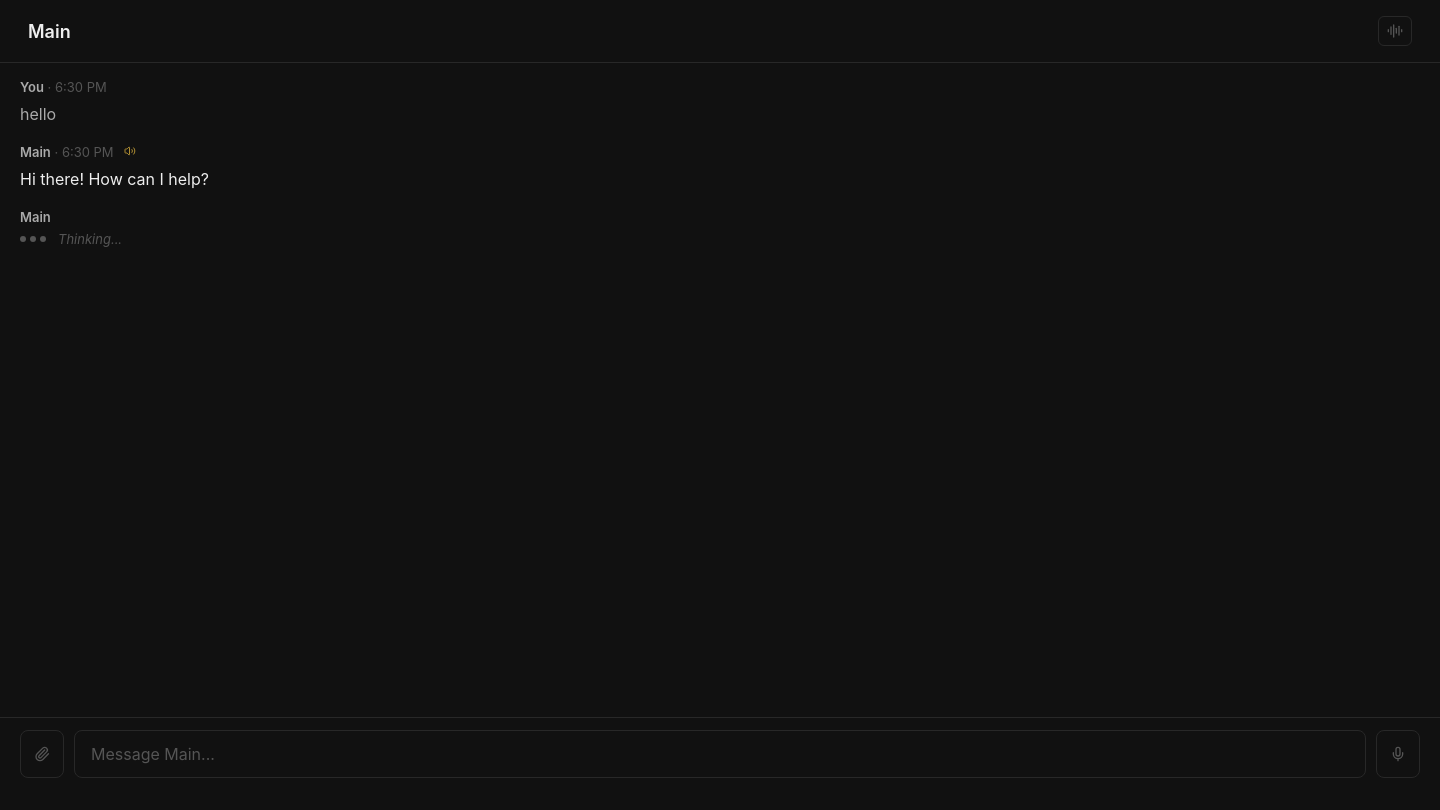
Test: ChatPanel › queues messages sent while loading and sends after loading completes
Type "queued msg" into the text box with placeholder "Message Main..." at (720, 754), box [74,730,1366,778]
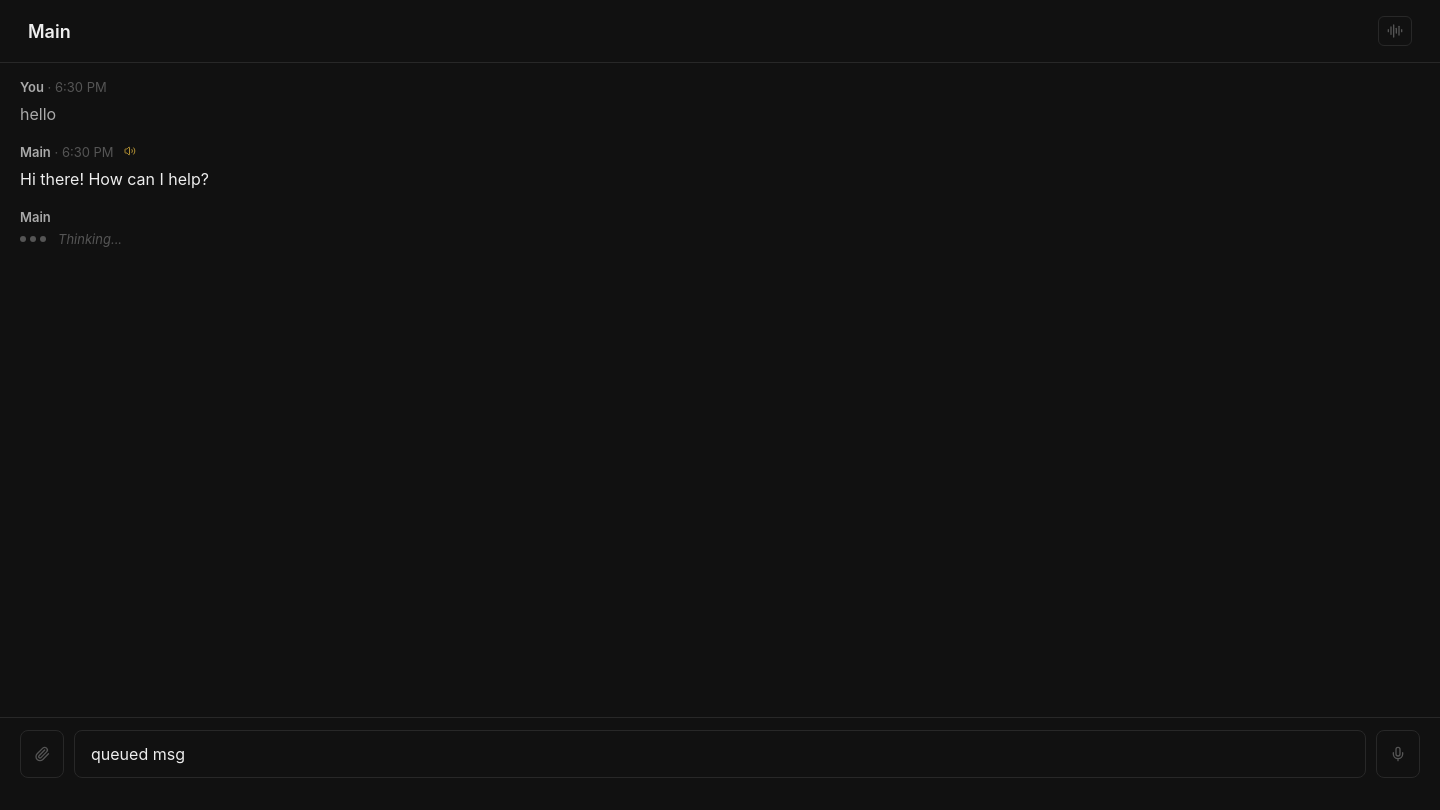
Press Enter in the text box with placeholder "Message Main...", box [74,730,1366,778]
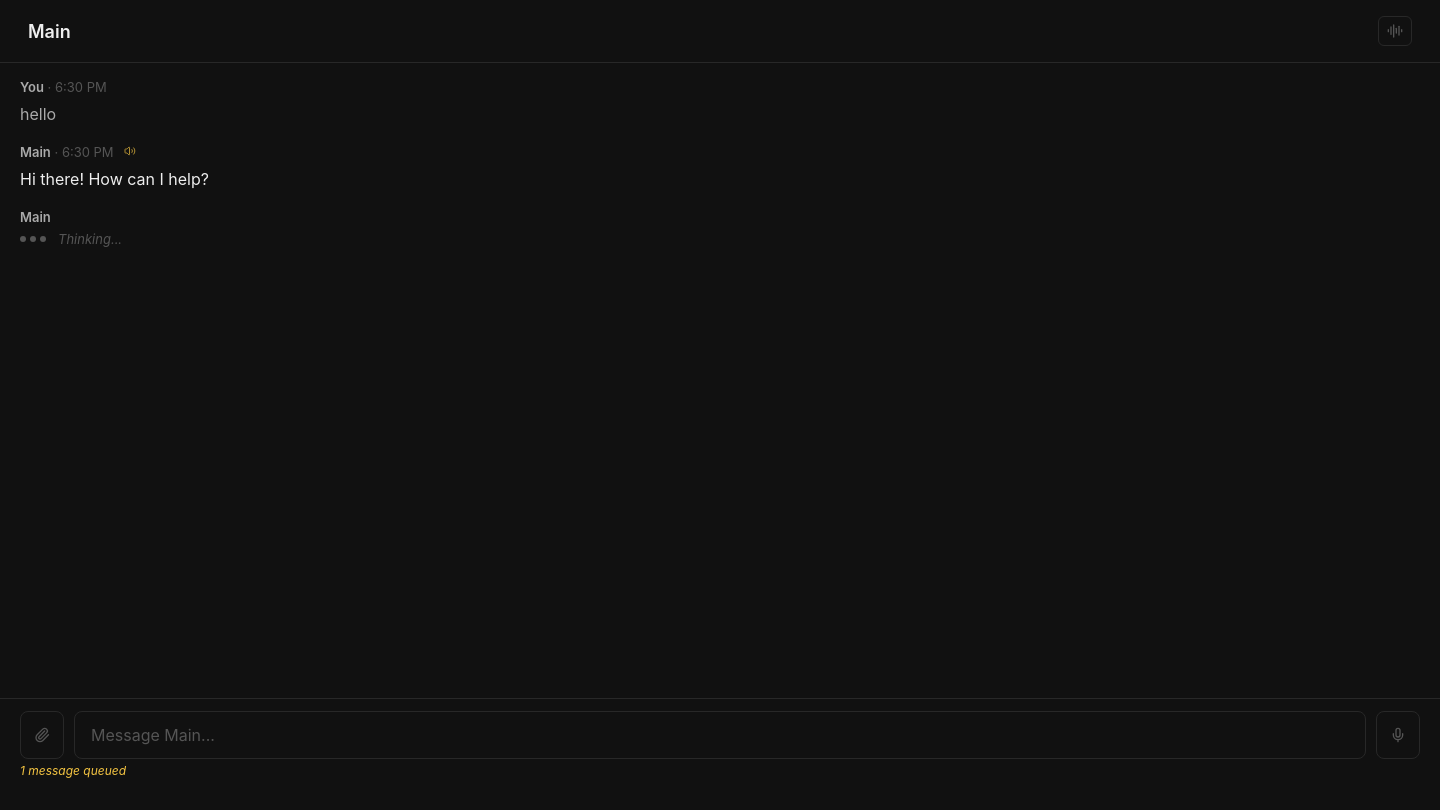
Now the text "1 message queued" is shown, box [20,763,126,778]
